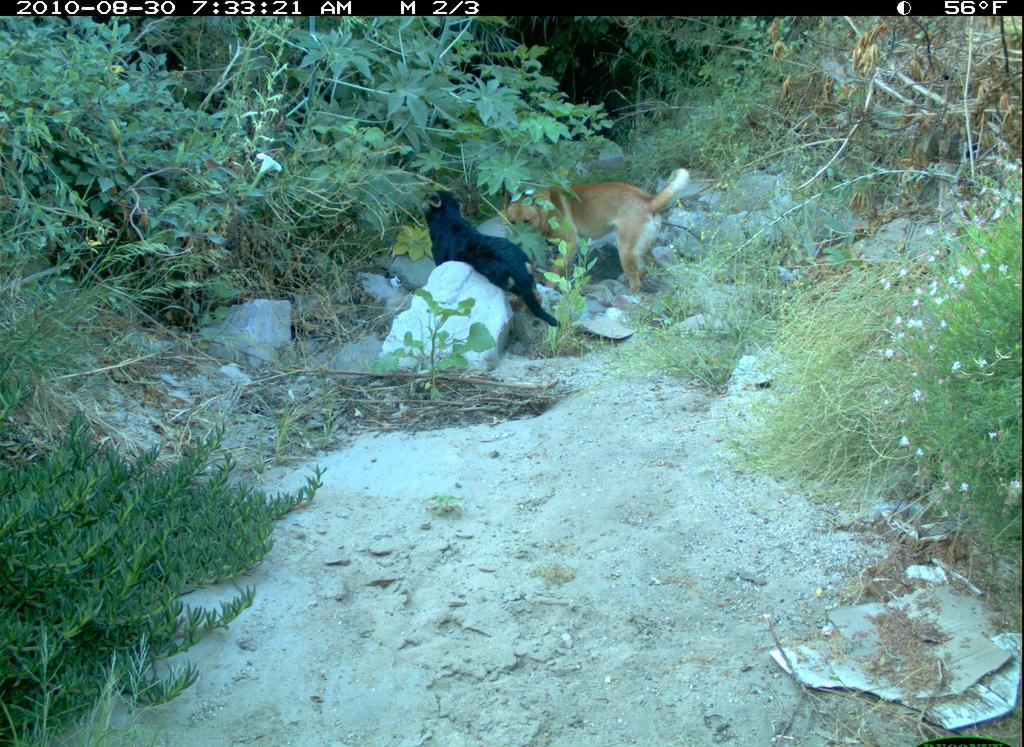dog: (497, 164, 694, 297), (425, 182, 571, 335)
